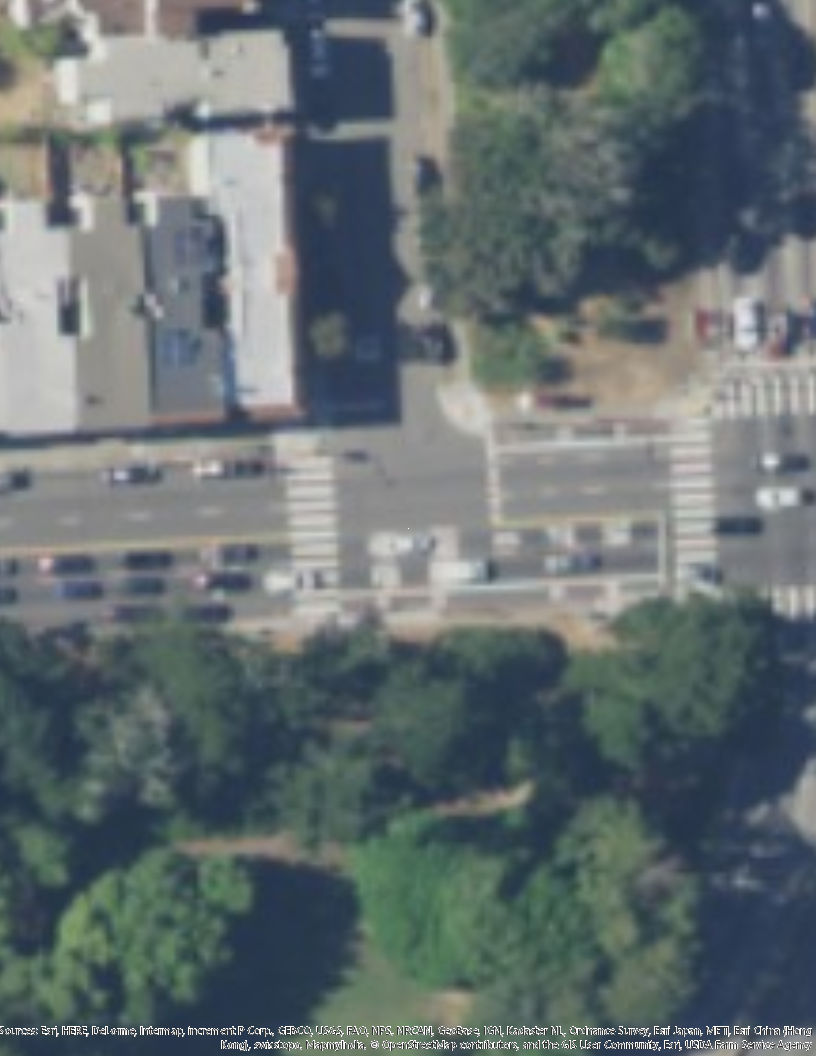zebracross: (287, 449, 342, 619), (671, 423, 718, 583), (724, 368, 816, 417)
